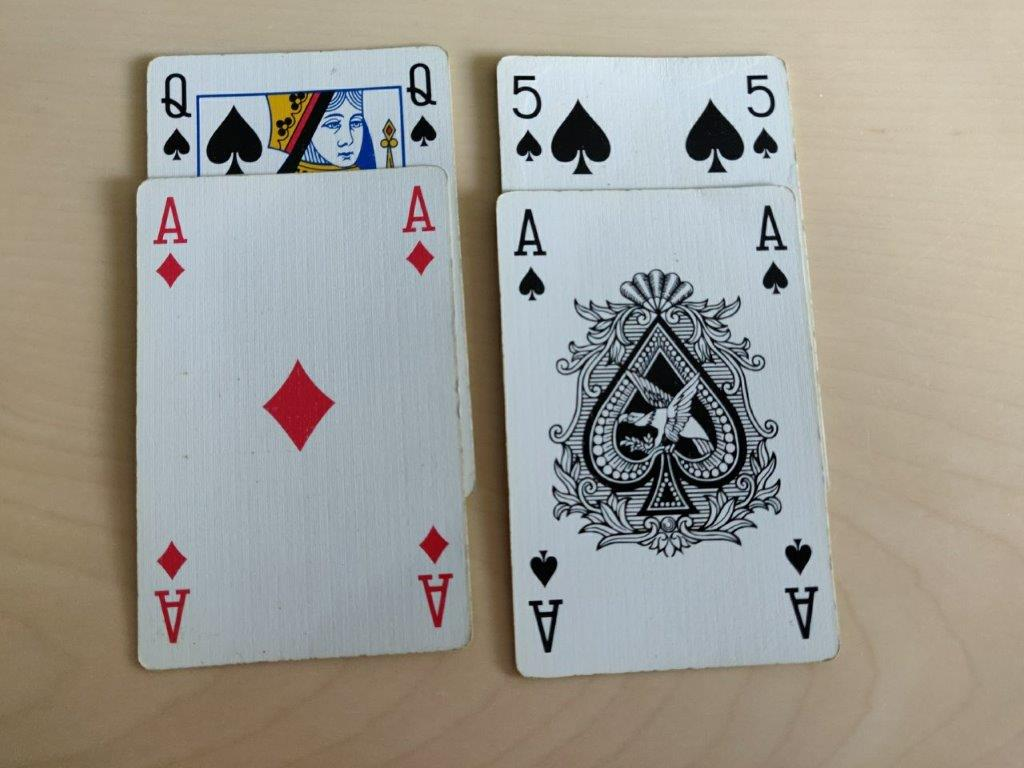5S: (507, 68, 547, 165), (743, 65, 783, 162)
AD: (146, 192, 196, 294), (395, 180, 445, 282)
AS: (509, 204, 549, 302), (751, 201, 791, 299)
QS: (157, 66, 196, 163), (401, 55, 440, 152)
